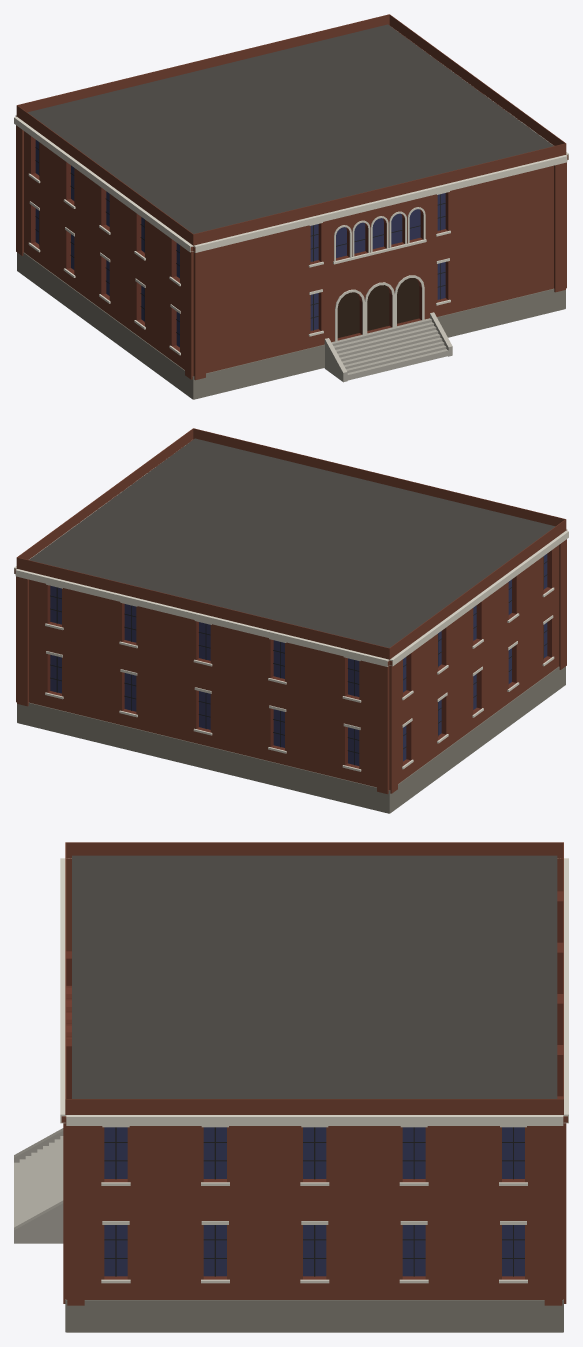
File: ch-mt-zion-baptist-1961.glb
The picture shows the model from 3 angles, top to bottom: view 1: azimuth 30°, elevation 25°; view 2: azimuth 150°, elevation 25°; view 3: azimuth 270°, elevation 25°; orthographic projection. The views are drawn at different scales.
Visible parts, largest first — view 1: ch_brick, ch_roof, ch_base, ch_trim, ch_conc, ch_brick2, ch_stain, ch_door, ch_lead; view 2: ch_brick, ch_roof, ch_base, ch_trim, ch_stain, ch_brick2, ch_lead; view 3: ch_roof, ch_brick, ch_base, ch_stain, ch_trim, ch_conc, ch_brick2, ch_lead.
Boxes of the visible parts, box(x1,y1,x2,y2) form: ch_brick: box(16, 14, 568, 380); ch_roof: box(27, 24, 553, 233); ch_base: box(17, 252, 565, 399); ch_trim: box(14, 55, 568, 355); ch_conc: box(324, 312, 452, 382); ch_brick2: box(31, 136, 448, 351); ch_stain: box(35, 140, 445, 347); ch_door: box(337, 278, 419, 337); ch_lead: box(35, 142, 445, 335); ch_brick: box(14, 428, 566, 794); ch_roof: box(29, 438, 555, 647); ch_base: box(17, 666, 565, 813); ch_trim: box(14, 445, 568, 771); ch_stain: box(50, 554, 547, 765); ch_brick2: box(47, 550, 551, 768); ch_lead: box(50, 556, 547, 765); ch_roof: box(72, 855, 557, 1098); ch_brick: box(61, 842, 567, 1305); ch_base: box(65, 1299, 563, 1332); ch_stain: box(104, 1127, 524, 1276); ch_trim: box(60, 858, 568, 1283); ch_conc: box(14, 1128, 63, 1243); ch_brick2: box(66, 891, 563, 1279); ch_lead: box(104, 1127, 524, 1276).
Size of the model in its own units: 31.89 by 13.4 by 28.65.
